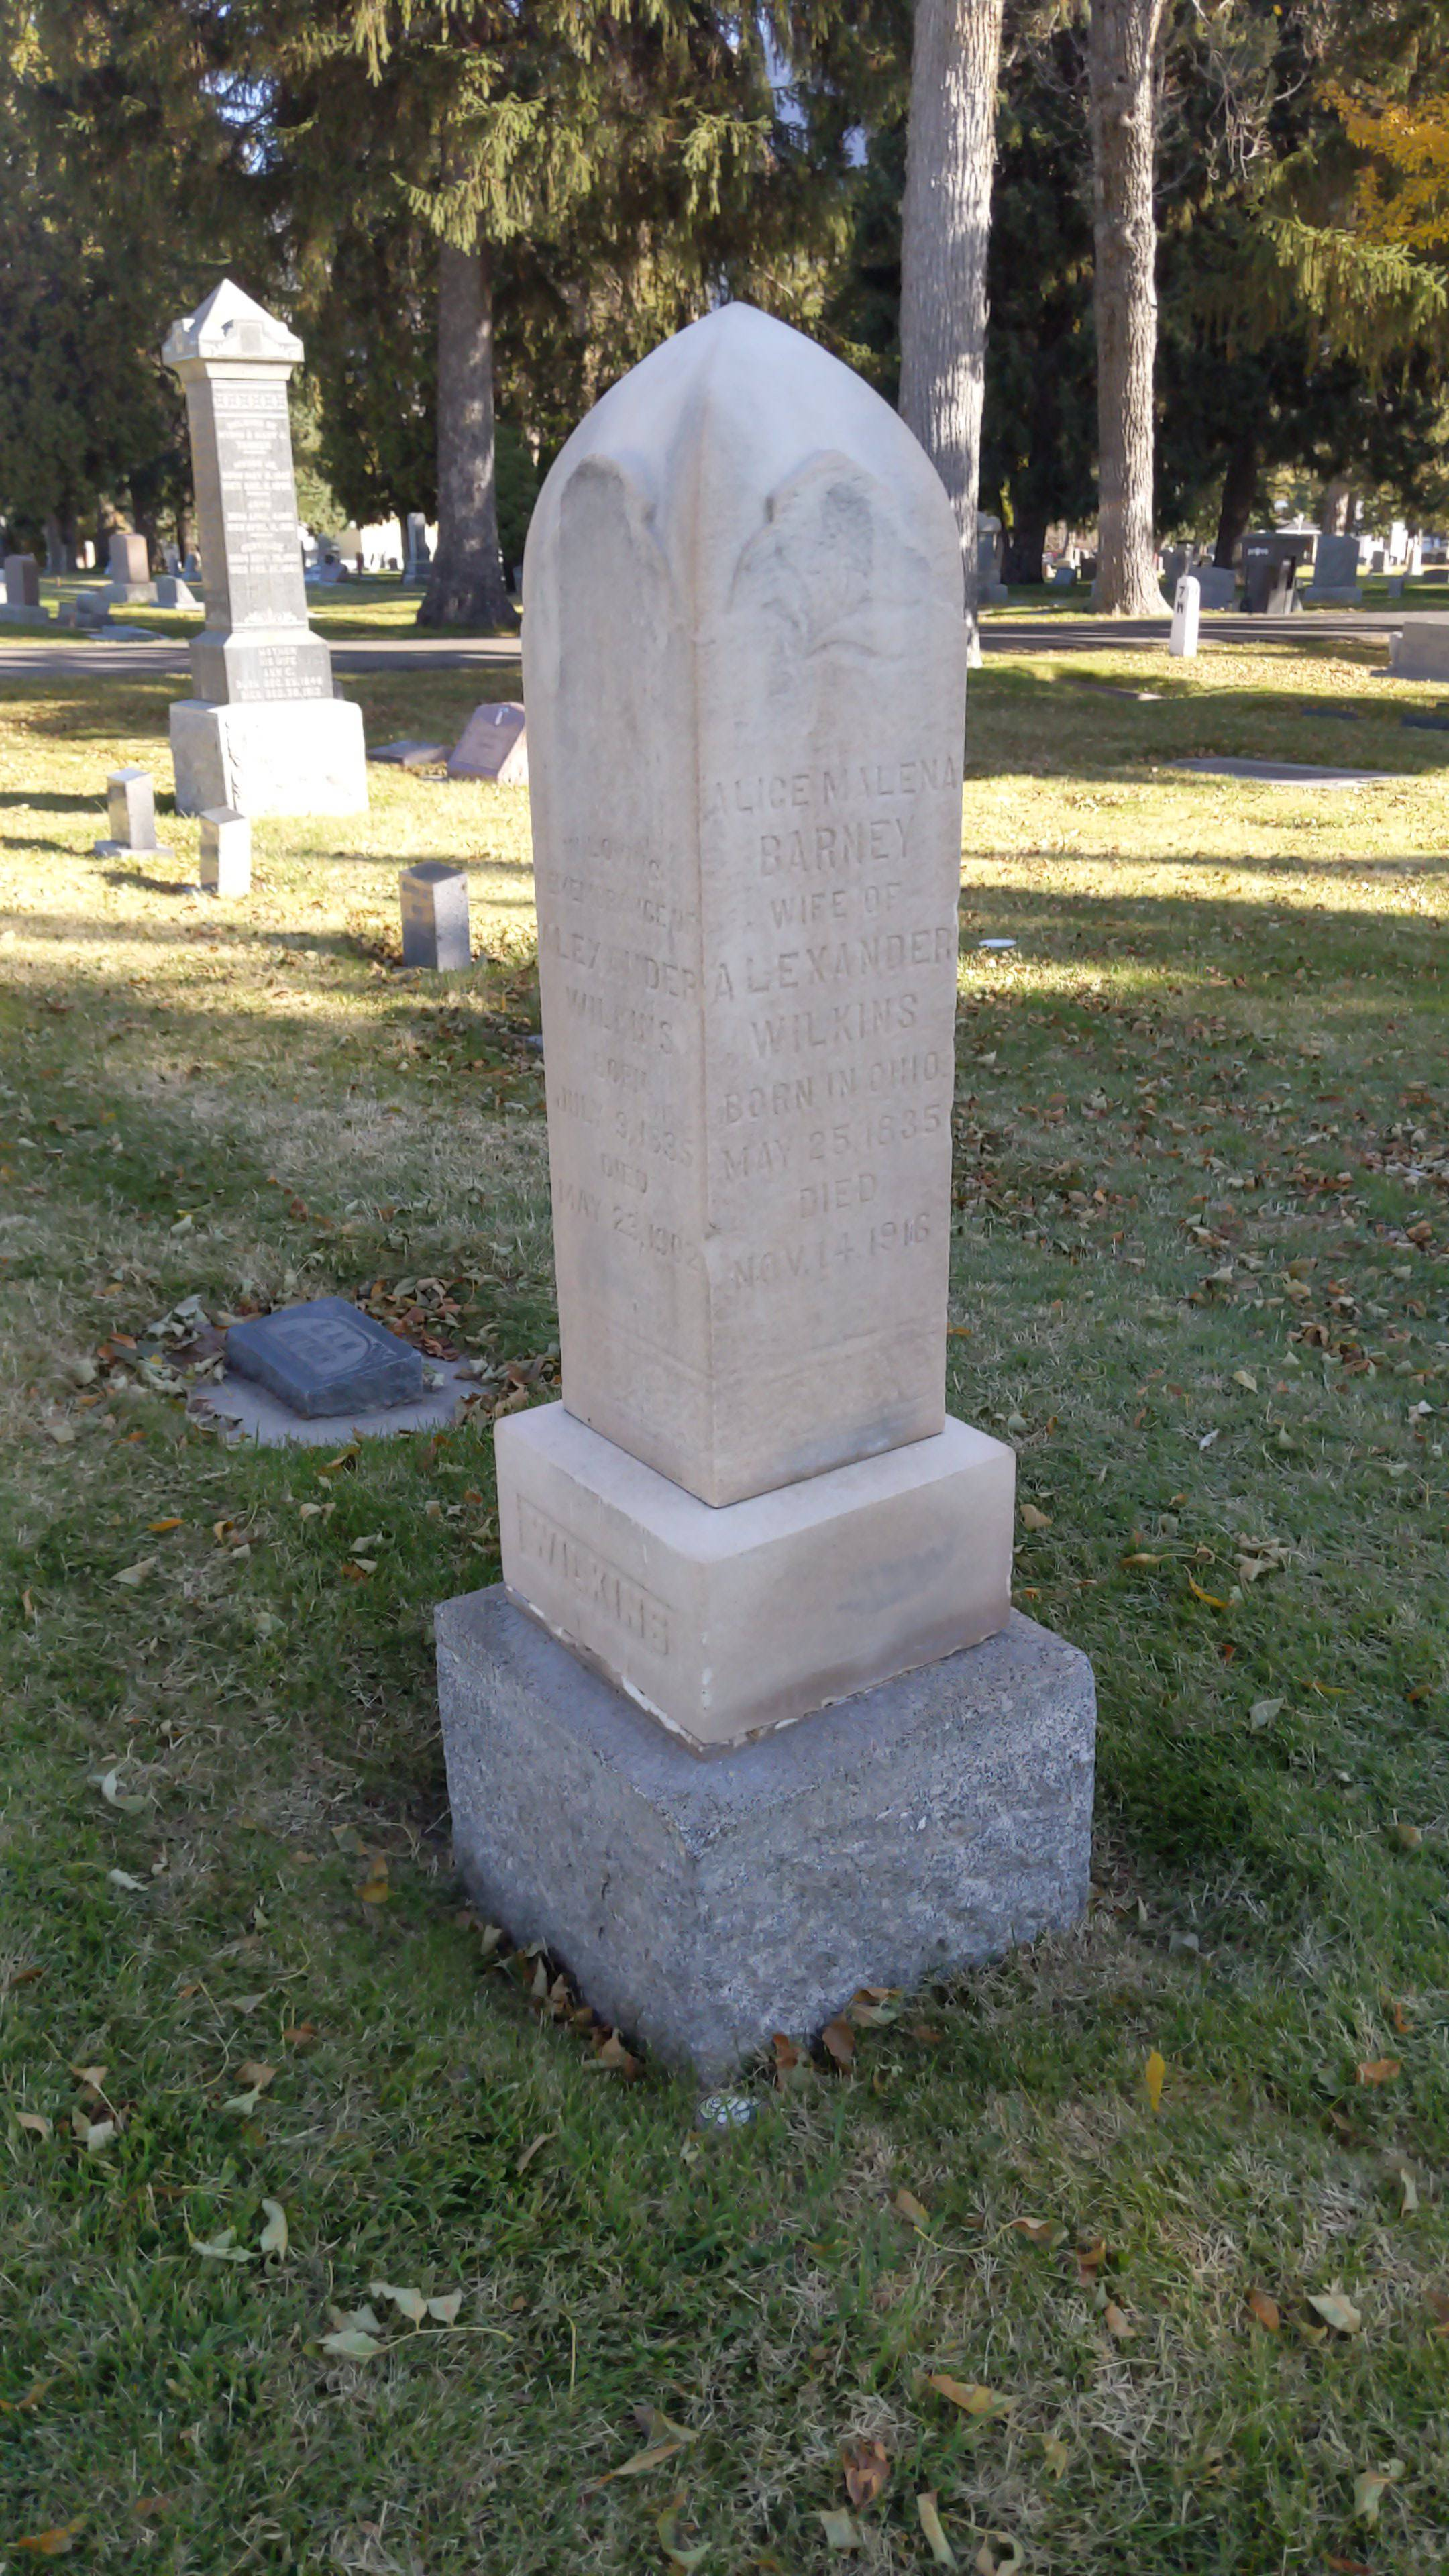obelisk: (490, 303, 1016, 1748)
